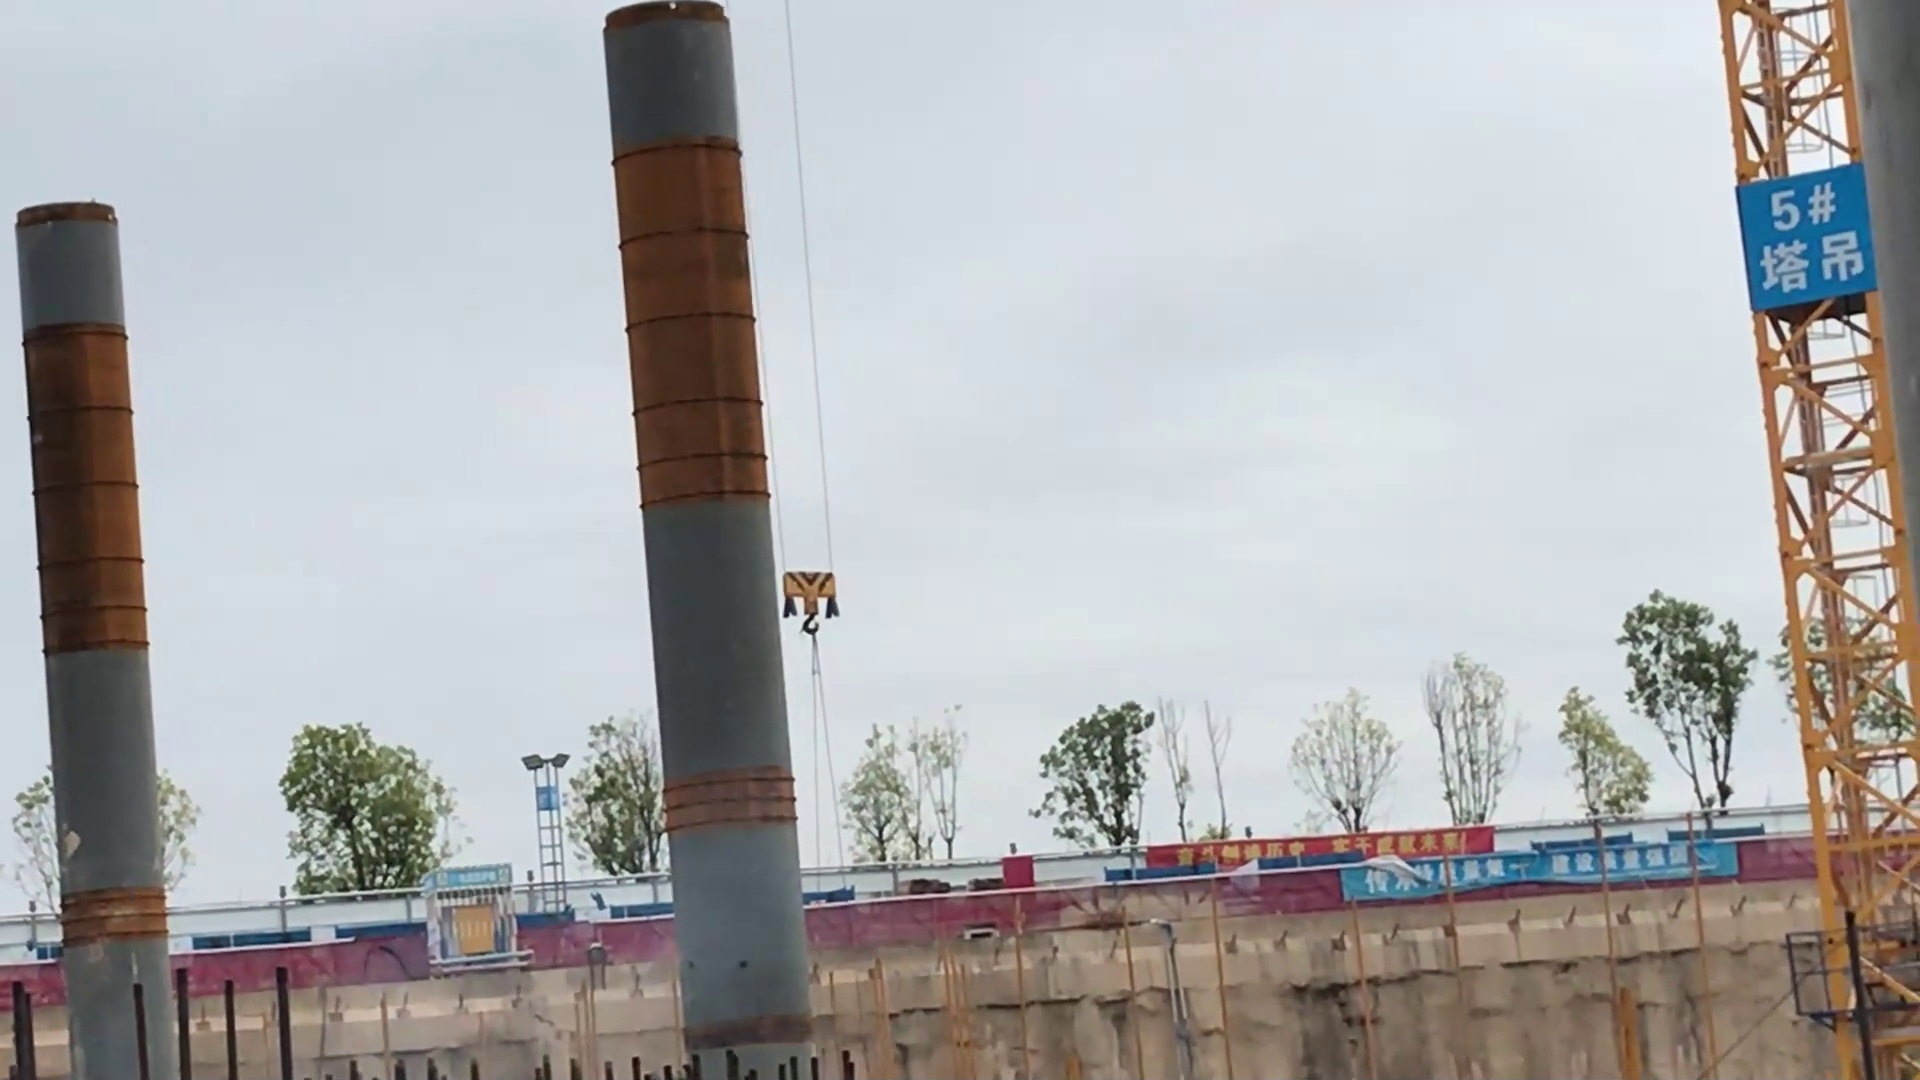ebox: (440, 902, 498, 953)
hook: (777, 567, 847, 638)
slogan: (1344, 843, 1737, 901), (1146, 828, 1493, 877)
